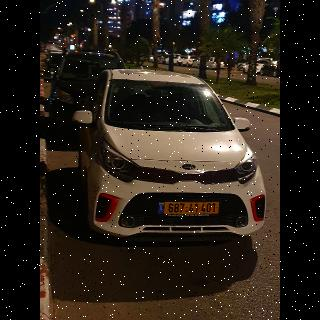LicensePlate: (165, 202, 219, 214)
